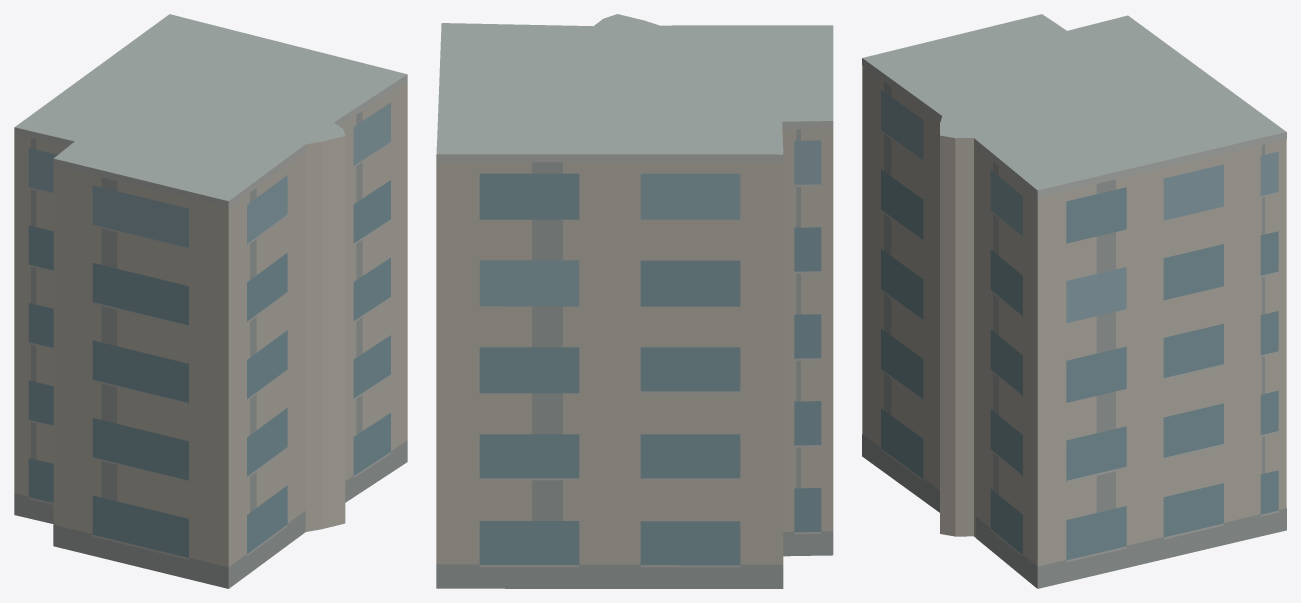
File: survey-upis-32950585.glb
The picture shows the model from 3 angles, left to right: view 1: azimuth 30°, elevation 25°; view 2: azimuth 150°, elevation 25°; view 3: azimuth 270°, elevation 25°; orthographic projection. The views are drawn at different scales.
Visible parts, largest first — view 1: survey-upis-32950585.tmp; view 2: survey-upis-32950585.tmp; view 3: survey-upis-32950585.tmp.
Boxes of the visible parts, <box> form: survey-upis-32950585.tmp: <box>14,14,407,588</box>; survey-upis-32950585.tmp: <box>436,14,833,588</box>; survey-upis-32950585.tmp: <box>862,14,1286,588</box>.
Bounding box in the file's own units: 12.59 × 13.25 × 12.8.
